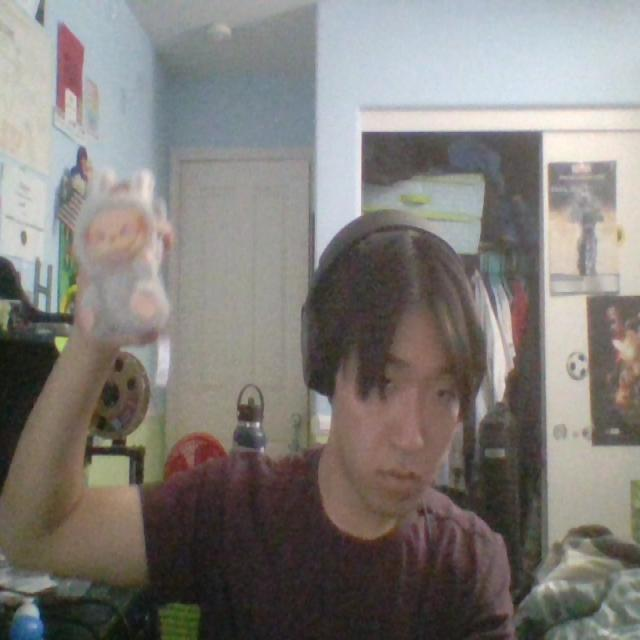labubu: (66, 171, 171, 347)
